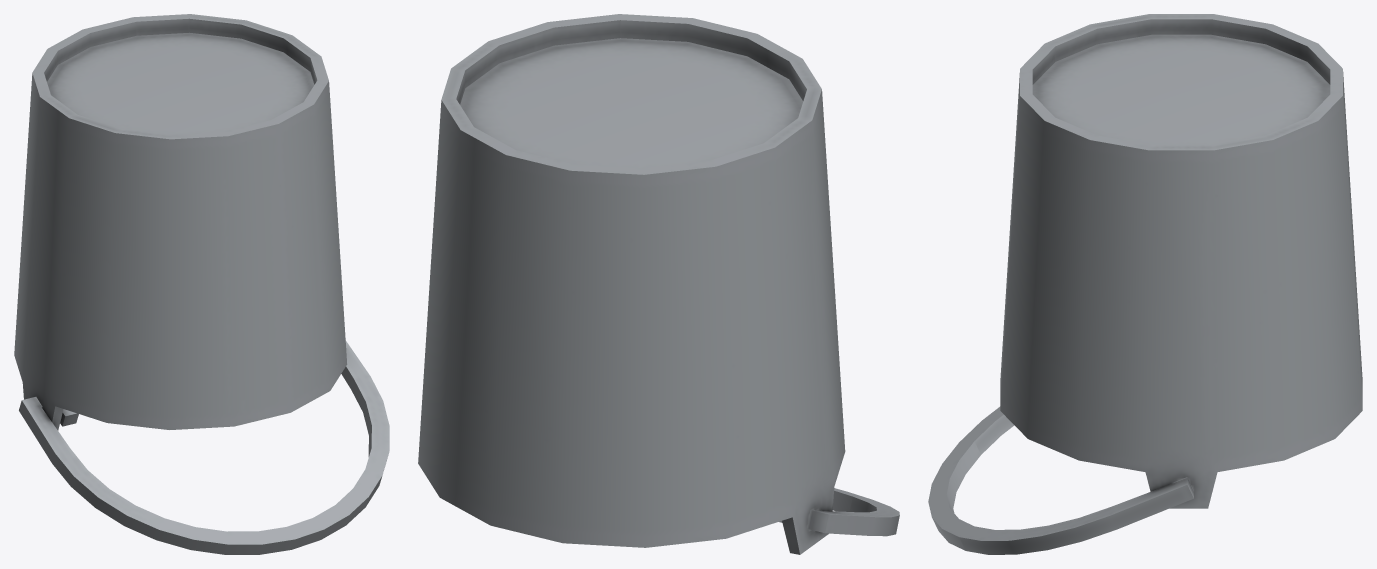
3 views of the same model, side by side, from view 1: azimuth 30°, elevation 25°; view 2: azimuth 150°, elevation 25°; view 3: azimuth 270°, elevation 25° (orthographic). The views are drawn at different scales.
Visible parts, largest first — view 1: Bucket_Metal; view 2: Bucket_Metal; view 3: Bucket_Metal.
Boxes of the visible parts, box(x1,y1,x2,y2) form: Bucket_Metal: box(14, 14, 389, 554); Bucket_Metal: box(418, 14, 899, 554); Bucket_Metal: box(928, 14, 1362, 554).
Bounding box in the file's own units: 1.18 × 1.4 × 1.27.
1 material, 1 textured.
